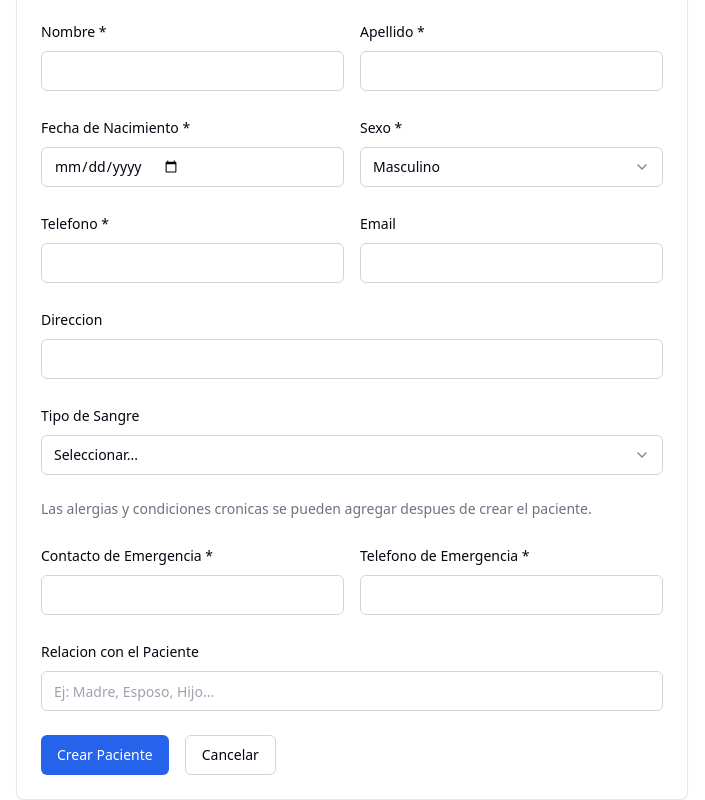
Test case: NewPatientPage › should show validation errors for empty required fields
The width and height of the screenshot is (705, 800).
(page scrolled)
Click the button "Crear Paciente" at (105, 755), box [41, 735, 169, 775]
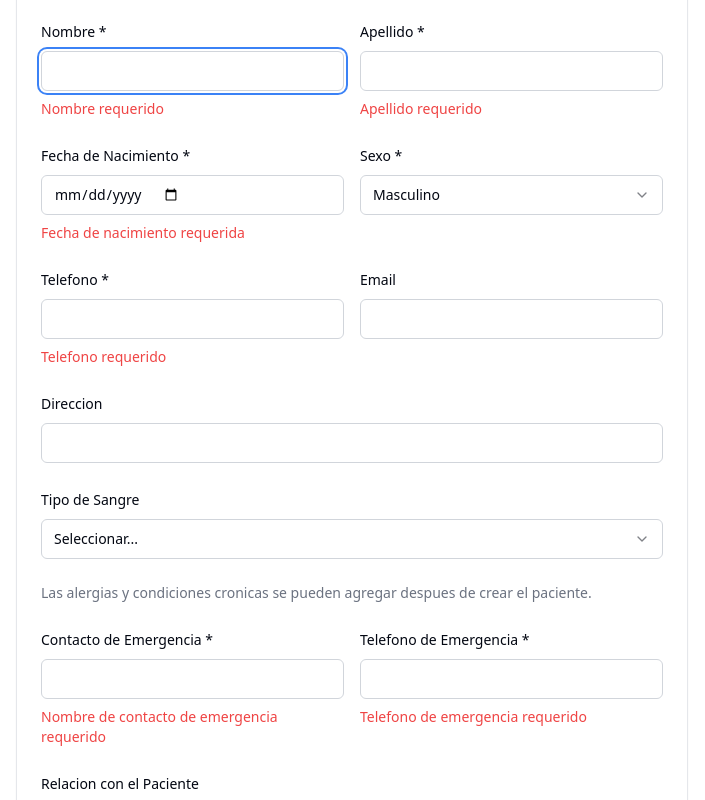
Now the text "Nombre requerido" is shown, box [41, 99, 164, 118]
Now the text "Apellido requerido" is shown, box [360, 99, 482, 118]
Now the text "Fecha de nacimiento requerida" is shown, box [41, 223, 245, 242]
